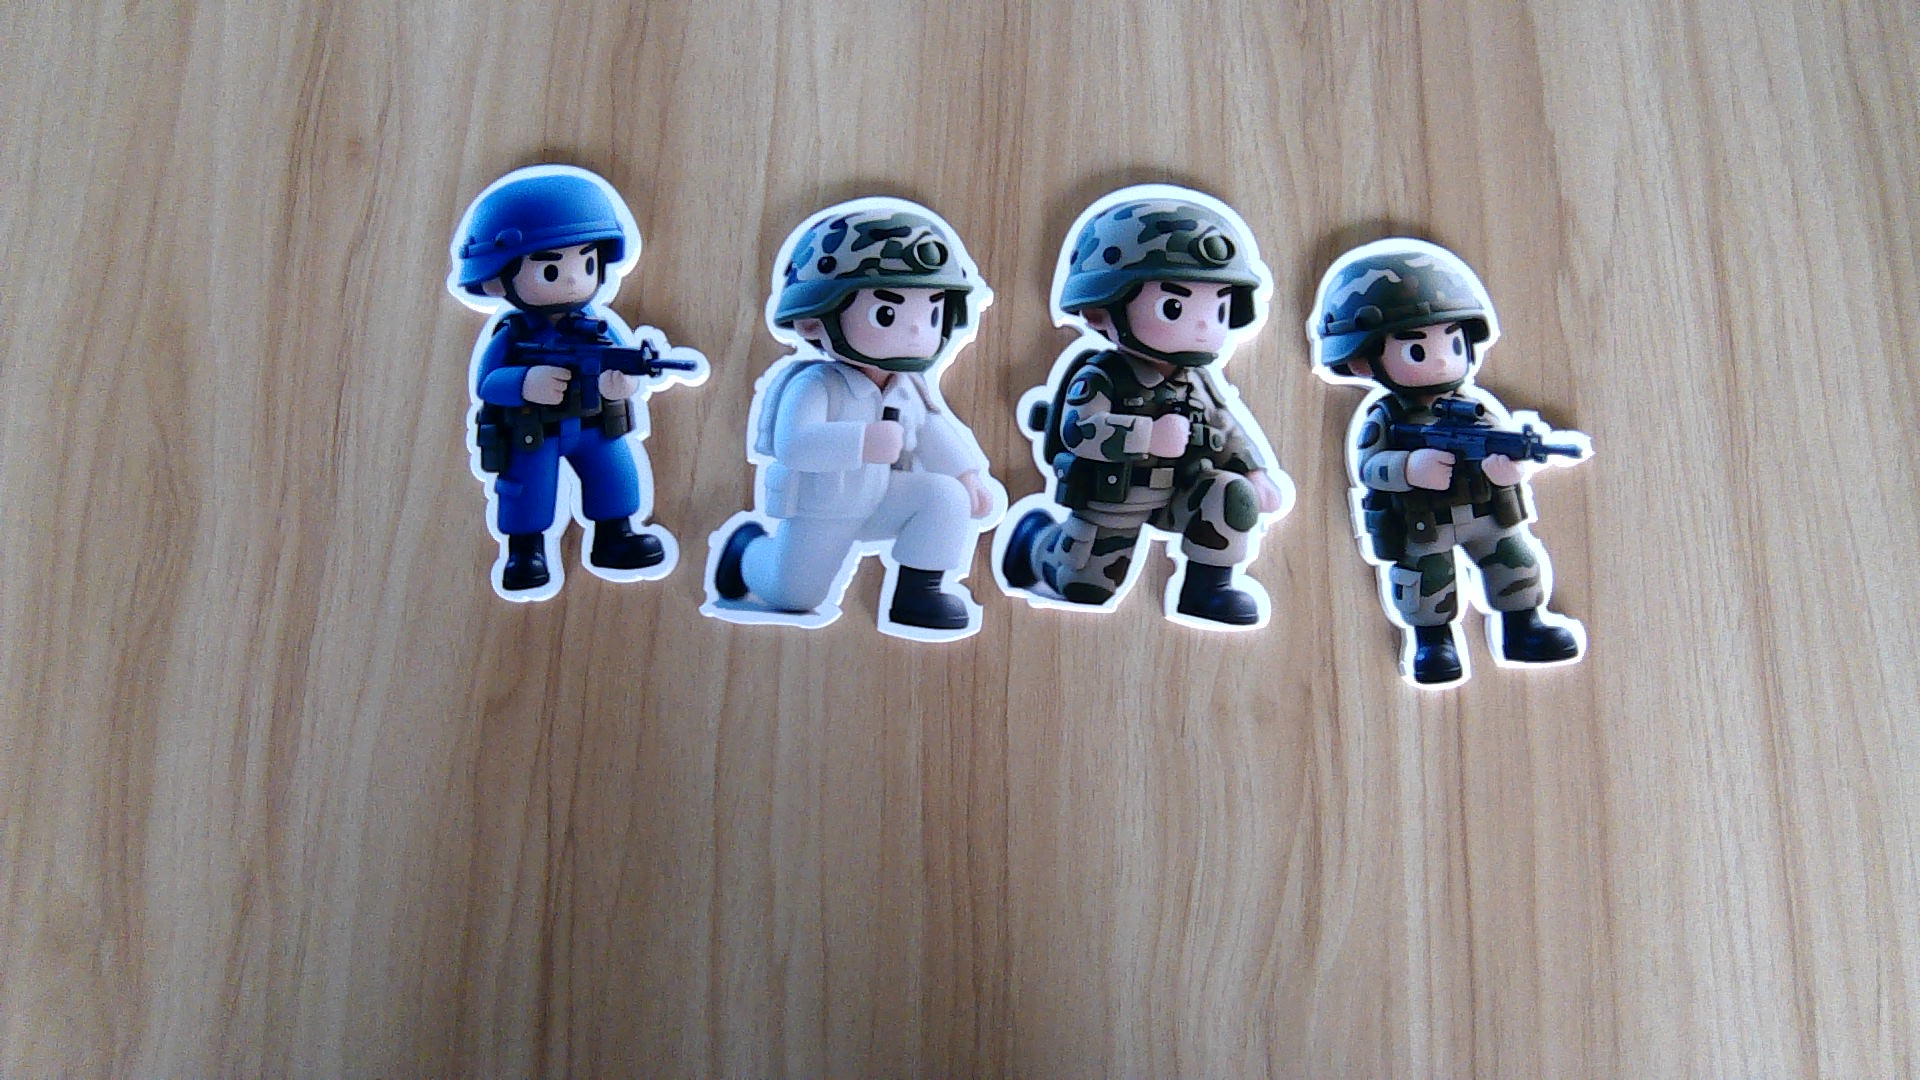人质: (698, 367, 1001, 647)
友军: (1001, 360, 1288, 642), (1340, 396, 1601, 687)
敌人2: (455, 313, 702, 603)
